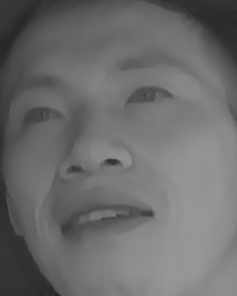eye: (121, 77, 176, 117), (20, 98, 68, 135)
mouth: (49, 190, 156, 245)
